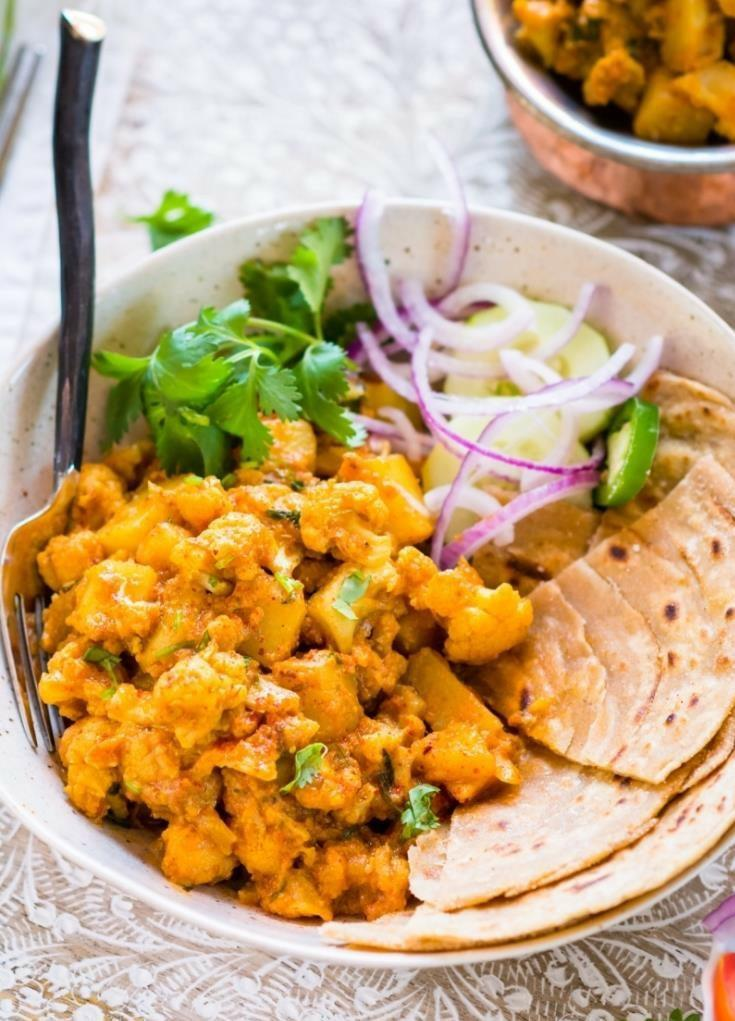AlooGobi: (33, 418, 531, 923), (510, 0, 735, 146)
